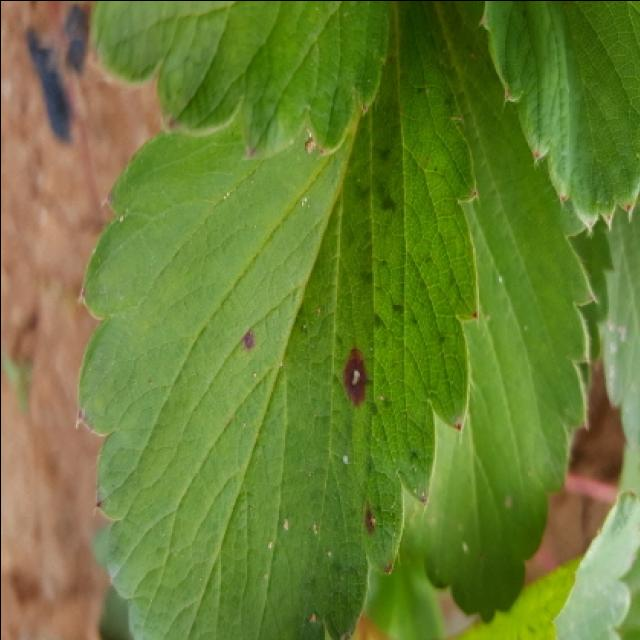Leaf Spot: (74, 2, 480, 640)
